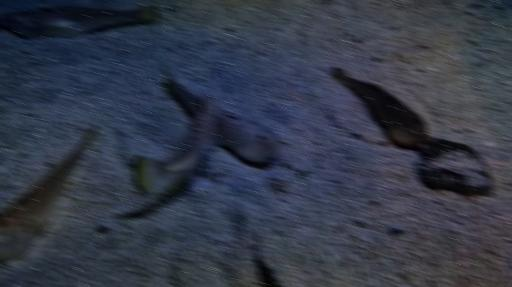Fish: (0, 125, 96, 254), (133, 95, 218, 193), (332, 68, 429, 149), (0, 5, 157, 39), (214, 105, 280, 163), (253, 247, 278, 286)
